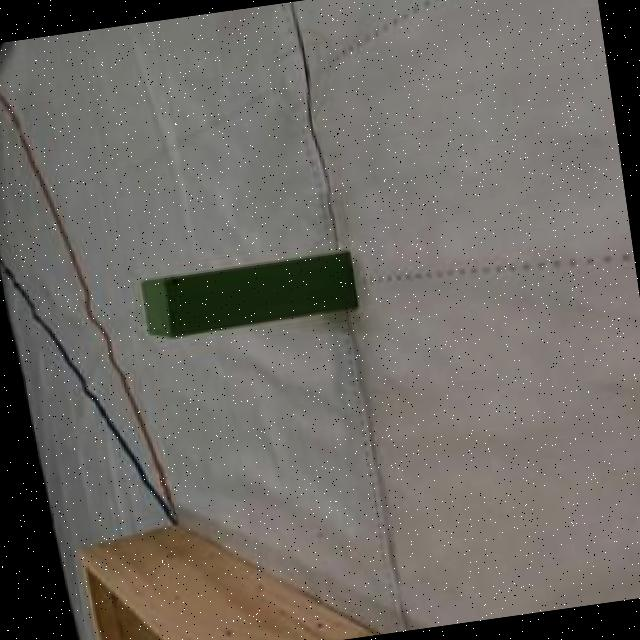greenbox: (134, 244, 366, 347)
